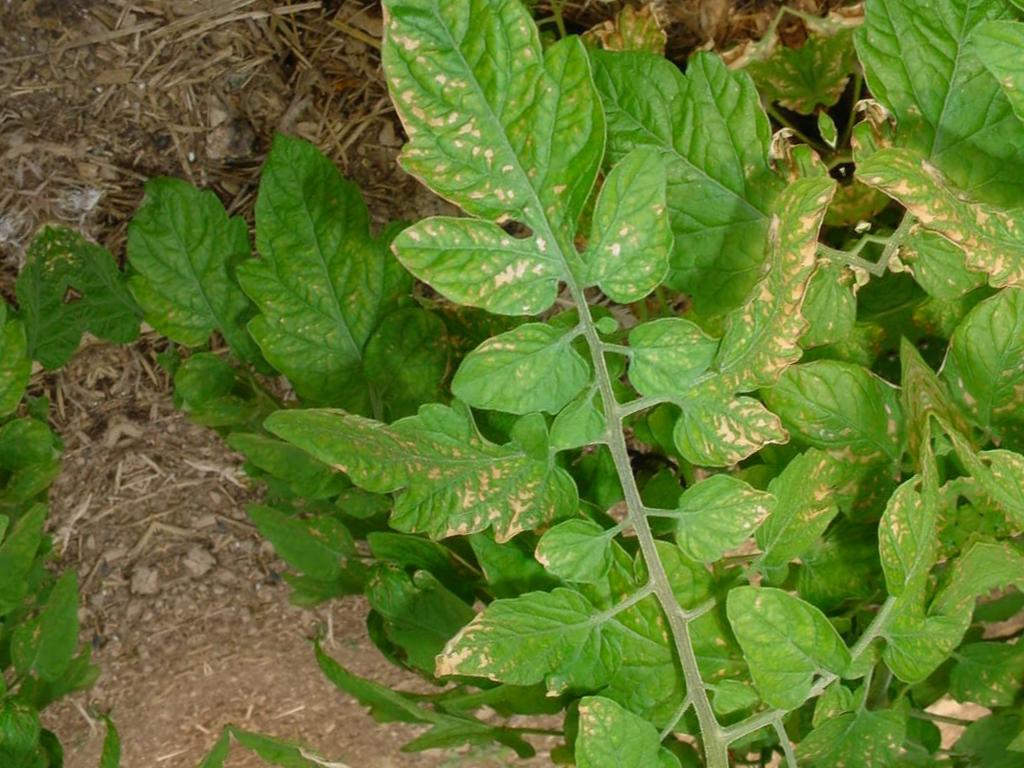Tomato leaf bacterial spot: (578, 164, 920, 516), (302, 0, 662, 305), (258, 308, 624, 606), (381, 534, 650, 768), (365, 167, 587, 372), (700, 536, 891, 715), (508, 629, 738, 768), (432, 288, 609, 445), (550, 142, 703, 317), (634, 456, 791, 588), (517, 497, 639, 609)
